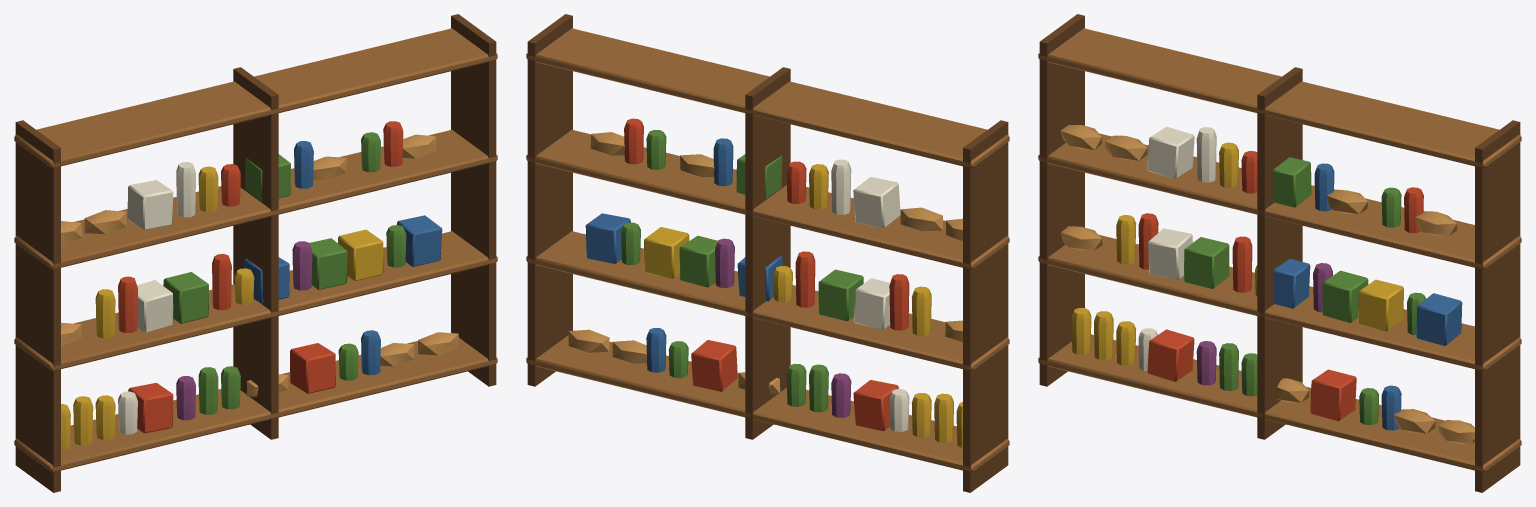
The model's file is food_shelf.glb.
3 views of the same model, side by side, from view 1: azimuth 30°, elevation 25°; view 2: azimuth 150°, elevation 25°; view 3: azimuth 330°, elevation 25° (orthographic).
Parts seen in each view (by area): view 1: food_shelf; view 2: food_shelf; view 3: food_shelf.
Part boxes in pixels (box(x1,y1,x2,y2)): food_shelf: box(14, 14, 497, 492); food_shelf: box(526, 14, 1009, 492); food_shelf: box(1038, 14, 1521, 492).
Size of the model in its own units: 3 by 2.2 by 0.44.
